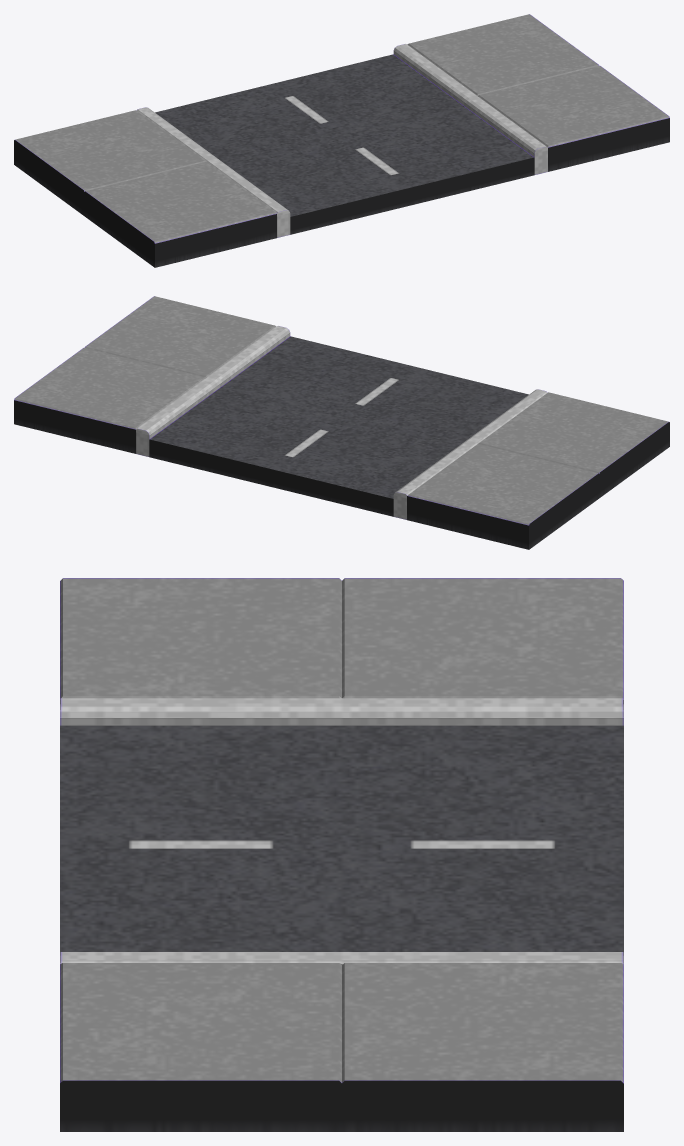
Rendered from road_module.obj.
3 renders of one model, top to bottom at view 1: azimuth 30°, elevation 25°; view 2: azimuth 150°, elevation 25°; view 3: azimuth 270°, elevation 25°, orthographic. The views are drawn at different scales.
Parts seen in each view (by area): view 1: road, sidewalk_02, sidewalk_01, curb_03, curb_01; view 2: road, sidewalk_02, sidewalk_01, curb_03, curb_01; view 3: road, sidewalk_01, sidewalk_02, curb_01, curb_03.
Part boxes in pixels (bbox=[...]): road: bbox=[155, 54, 534, 234]; sidewalk_02: bbox=[14, 110, 276, 267]; sidewalk_01: bbox=[407, 14, 669, 171]; curb_03: bbox=[393, 44, 547, 174]; curb_01: bbox=[136, 107, 290, 237]; road: bbox=[149, 336, 528, 516]; sidewalk_02: bbox=[407, 392, 669, 549]; sidewalk_01: bbox=[14, 296, 276, 453]; curb_03: bbox=[136, 326, 290, 456]; curb_01: bbox=[393, 389, 547, 519]; road: bbox=[60, 725, 623, 955]; sidewalk_01: bbox=[60, 963, 623, 1131]; sidewalk_02: bbox=[60, 578, 623, 703]; curb_01: bbox=[60, 698, 623, 725]; curb_03: bbox=[60, 952, 623, 964].
Size of the model in its own units: 4.22 by 0.2 by 2.
